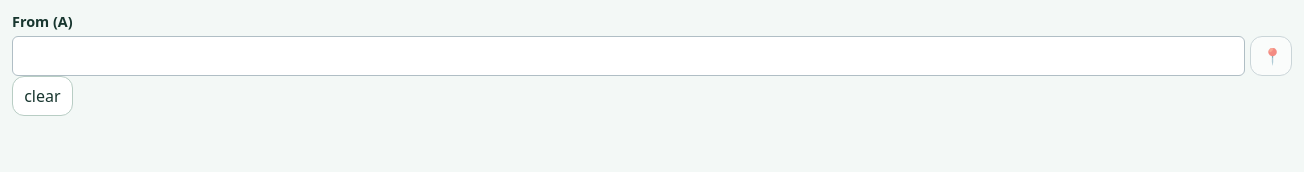
AddressInput › explains when no addresses match in the selected city
Type "Unknown address" into the dropdown at (628, 56), box [12, 36, 1245, 76]
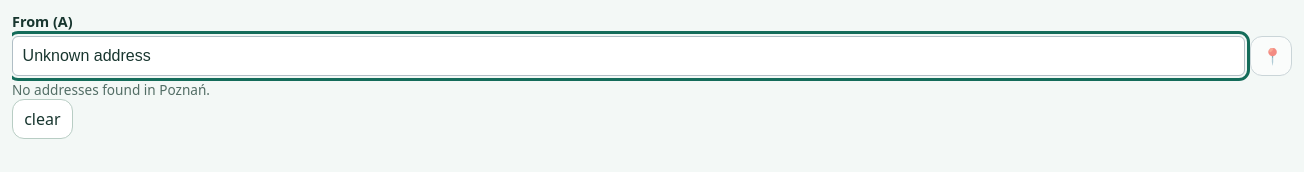
Check: the message reads "No addresses found in Poznań.", box [12, 80, 210, 99]
